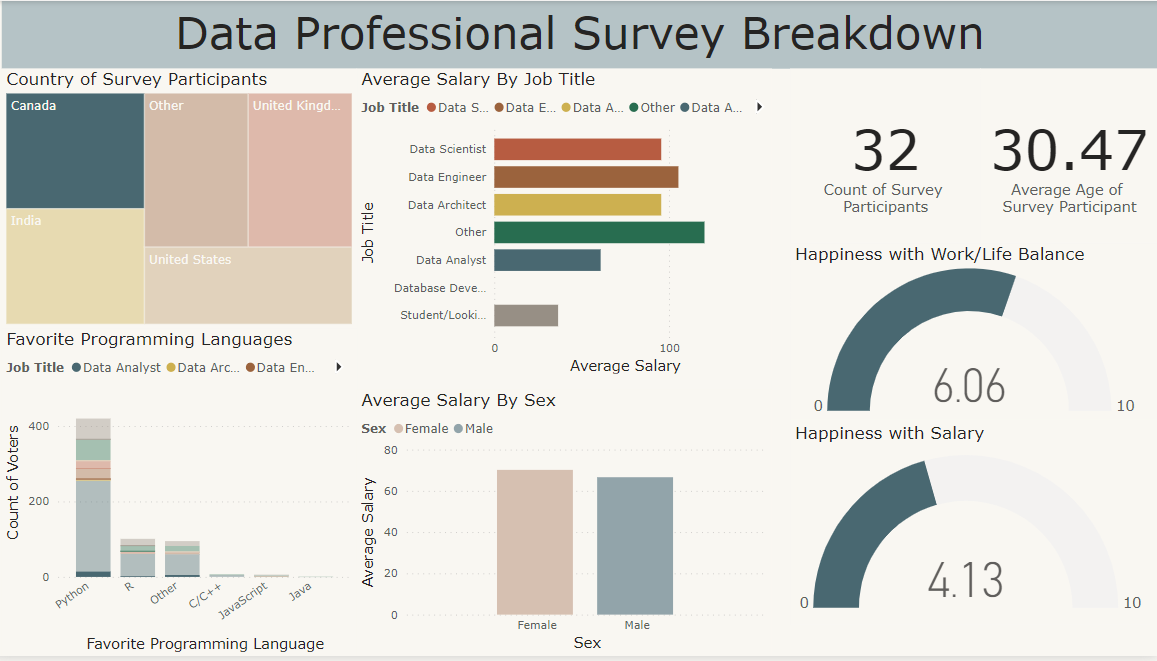

What the dashboard file says about the page in this screenshot:
{"tool":"powerbi","page":{"name":"Page 1","canvas":[1280,720],"ordinal":0},"visuals":[{"type":"textbox","box":[9.6,0,1270.4,74.2],"z":0},{"type":"card","fields":{"Values":["Count(Data Professional Survey.Unique ID)"]},"box":[876.2,74.2,208.8,190.9],"z":1000},{"type":"card","fields":{"Values":["Avg(Data Professional Survey.Q10 - Current Age)"]},"box":[1085,74.2,195,190.9],"z":2000},{"type":"barChart","title":"Average Salary By Job Title","fields":{"Category":["Data Professional Survey.Q1 - Which Title Best Fits your Current Role?.1"],"Y":["Avg(Data Professional Survey.Average Salary)"],"Series":["Data Professional Survey.Q1 - Which Title Best Fits your Current Role?.1"]},"box":[399.7,74.2,456,340.6],"z":2001},{"type":"columnChart","title":"Favorite Programming Languages","fields":{"Category":["Data Professional Survey.Q5 - Favorite Programming Language.1"],"Y":["CountNonNull(Data Professional Survey.Unique ID)"],"Series":["Data Professional Survey.Q1 - Which Title Best Fits your Current Role?.1"]},"box":[9.6,359.8,390,359.8],"z":2002},{"type":"treemap","title":"Country of Survey Takers","fields":{"Group":["Data Professional Survey.Q11 - Which Country do you live in?.1"],"Values":["Count(Data Professional Survey.Q11 - Which Country do you live in?.1)"]},"box":[9.6,74.2,390,285.7],"z":2003},{"type":"gauge","title":"Happiness with Work/Life Balance","fields":{"Y":["Avg(Data Professional Survey.Q6 - How Happy are you in your Current Position with the following? (Work/Life Balance))"],"MinValue":["Min(Data Professional Survey.Q6 - How Happy are you in your Current Position with the following? (Work/Life Balance))1"],"MaxValue":["Max(Data Professional Survey.Q6 - How Happy are you in your Current Position with the following? (Work/Life Balance))2"]},"box":[876.2,266.4,403.8,193.6],"z":2004},{"type":"gauge","title":"Happiness with Salary","fields":{"Y":["Avg(Data Professional Survey.Q6 - How Happy are you in your Current Position with the following? (Salary))"],"MinValue":["Min(Data Professional Survey.Q6 - How Happy are you in your Current Position with the following? (Salary))"],"MaxValue":["Max(Data Professional Survey.Q6 - How Happy are you in your Current Position with the following? (Salary))"]},"box":[876.2,462.8,395.5,222.5],"z":2005},{"type":"columnChart","title":"Average Salary By Sex","fields":{"Category":["Data Professional Survey.Q9 - Male/Female?"],"Y":["Avg(Data Professional Survey.Average Salary)"],"Series":["Data Professional Survey.Q9 - Male/Female?"]},"box":[399.7,427.1,456,292.5],"z":2006}]}

Visuals, with their boxes in screenshot pixels (x1, y1, x2, y2), scaled from the page's 1280x720 canvas onto the 1157x661 screenshot:
textbox: select_region(9, 0, 1156, 68)
card - Count(Data Professional Survey.Unique ID): select_region(792, 68, 981, 243)
card - Avg(Data Professional Survey.Q10 - Current Age): select_region(981, 68, 1156, 243)
"Average Salary By Job Title" barChart: select_region(361, 68, 773, 381)
"Favorite Programming Languages" columnChart: select_region(9, 330, 361, 660)
"Country of Survey Takers" treemap: select_region(9, 68, 361, 330)
"Happiness with Work/Life Balance" gauge: select_region(792, 245, 1156, 422)
"Happiness with Salary" gauge: select_region(792, 425, 1149, 629)
"Average Salary By Sex" columnChart: select_region(361, 392, 773, 660)
